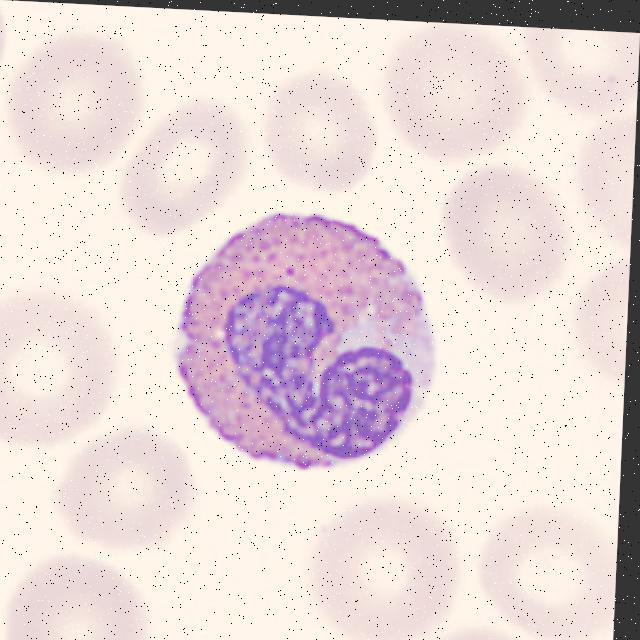eosinophil: (164, 210, 452, 486)
rbc: (60, 415, 217, 563), (302, 505, 466, 640), (0, 33, 158, 171), (113, 96, 256, 247), (0, 282, 126, 452), (386, 26, 529, 168), (439, 161, 577, 305), (476, 504, 619, 640), (262, 66, 388, 192), (0, 552, 158, 640), (519, 27, 640, 130), (558, 248, 630, 393), (569, 112, 636, 252), (414, 625, 542, 640)
